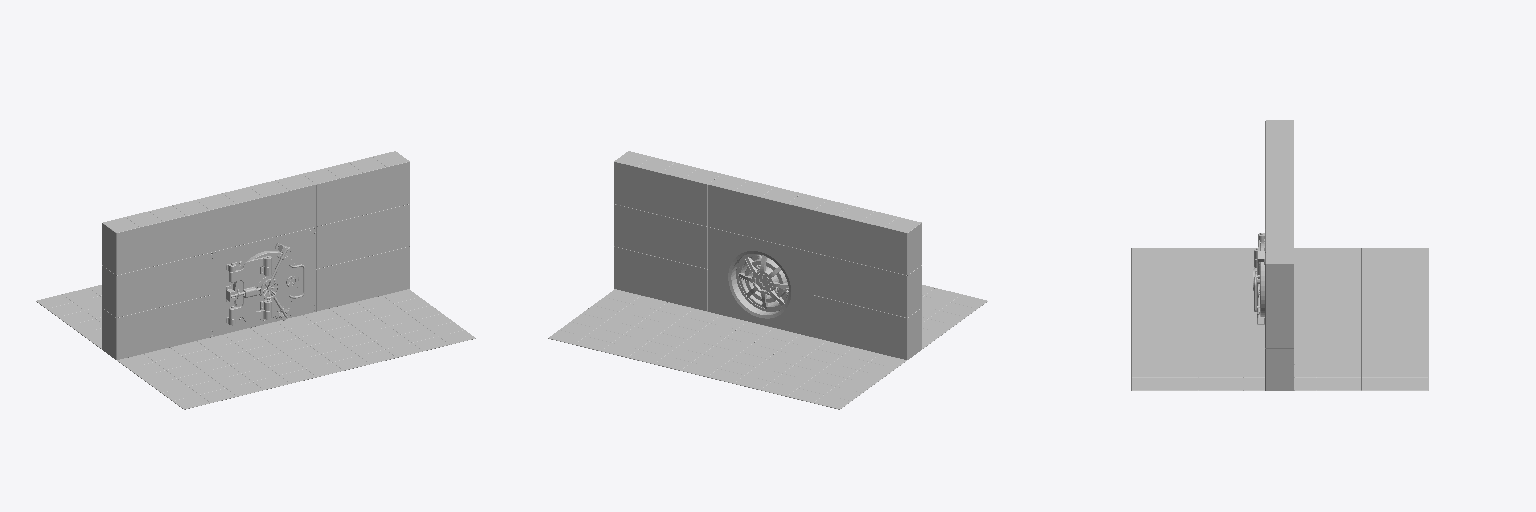
The model's file is vault closed.obj.
3 renders of one model, left to right at view 1: azimuth 30°, elevation 25°; view 2: azimuth 150°, elevation 25°; view 3: azimuth 270°, elevation 25°, orthographic.
Visible parts, largest first — view 1: Object01, Object02, Plane02, Object03, Object04; view 2: Object01, Object02, Plane02; view 3: Object01, Object02, Plane02.
Boxes of the visible parts, <box> form: Object01: <box>36,151,475,409</box>; Object02: <box>197,174,315,252</box>; Plane02: <box>231,249,304,320</box>; Object03: <box>229,256,271,321</box>; Object04: <box>211,228,315,336</box>; Object01: <box>548,151,987,409</box>; Object02: <box>708,174,826,252</box>; Plane02: <box>736,254,788,311</box>; Object01: <box>1131,120,1428,390</box>; Object02: <box>1265,166,1293,217</box>; Plane02: <box>1253,243,1264,317</box>.
Size of the model in its own units: 6972 by 2901 by 6104.